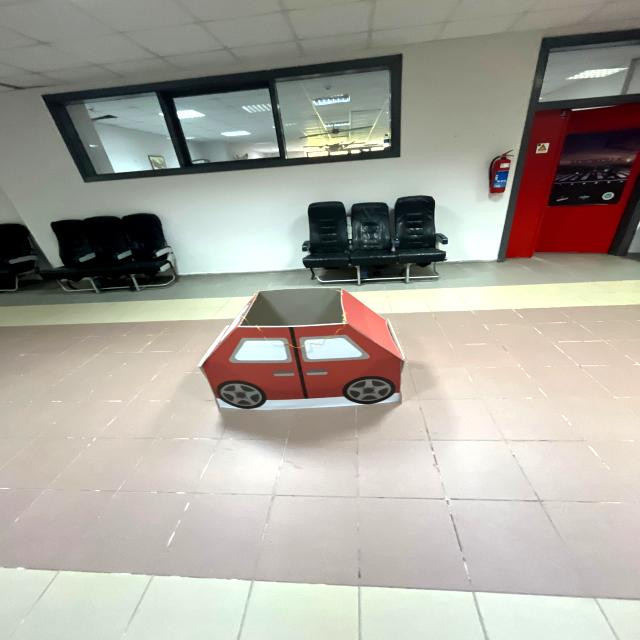red_car: (183, 278, 442, 435)
